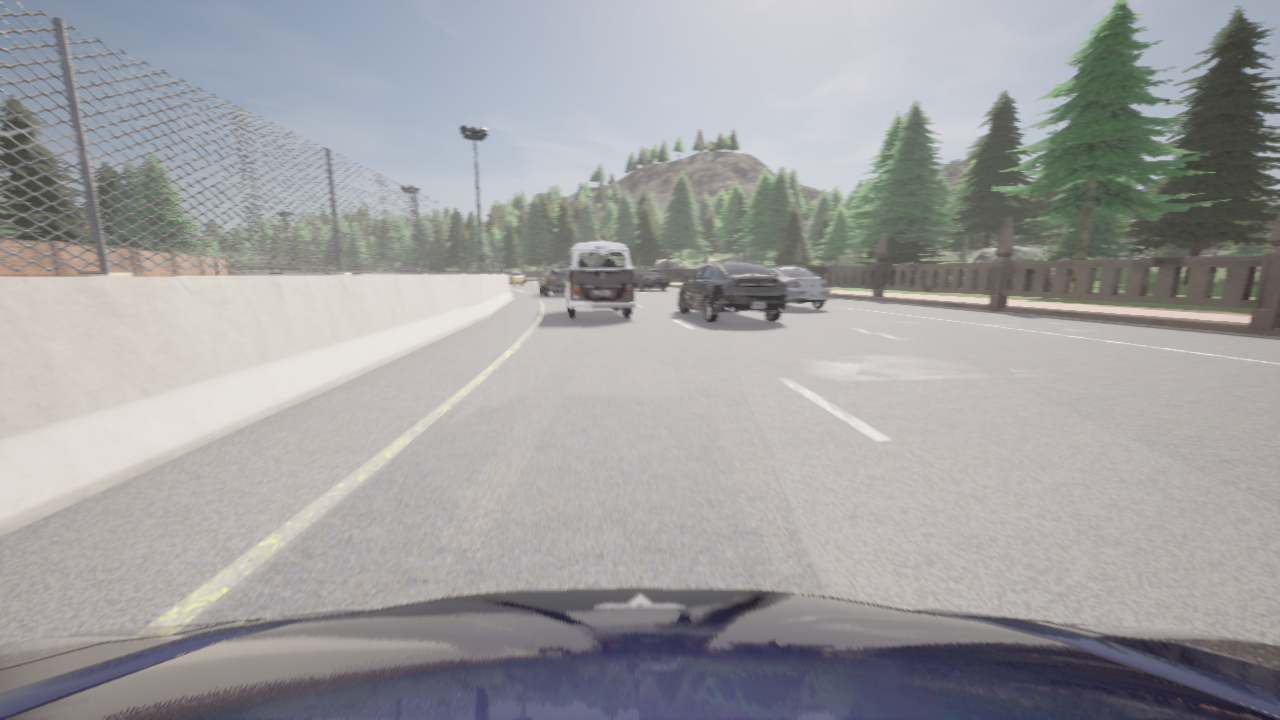cyclist: (0, 588, 1279, 719), (678, 261, 786, 322), (559, 241, 635, 318), (767, 266, 829, 309), (539, 264, 565, 296), (634, 272, 669, 290), (507, 271, 524, 286), (507, 271, 526, 283)
